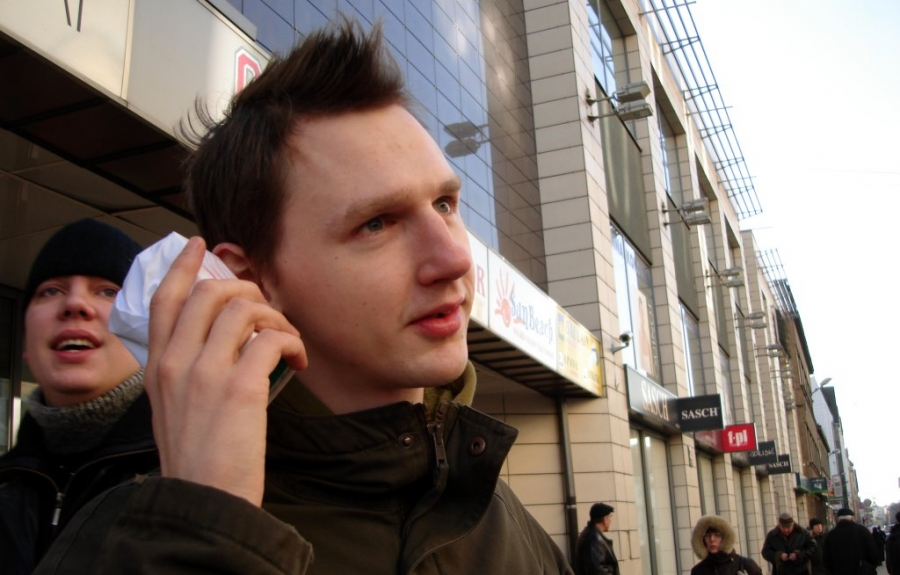phone: (156, 229, 296, 396)
talk: (139, 163, 478, 440)
